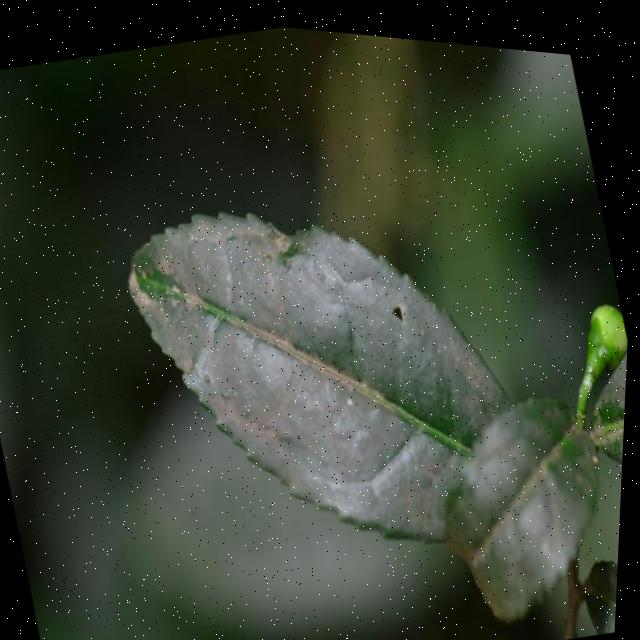Tea algae leaf spot: (124, 170, 466, 579)
